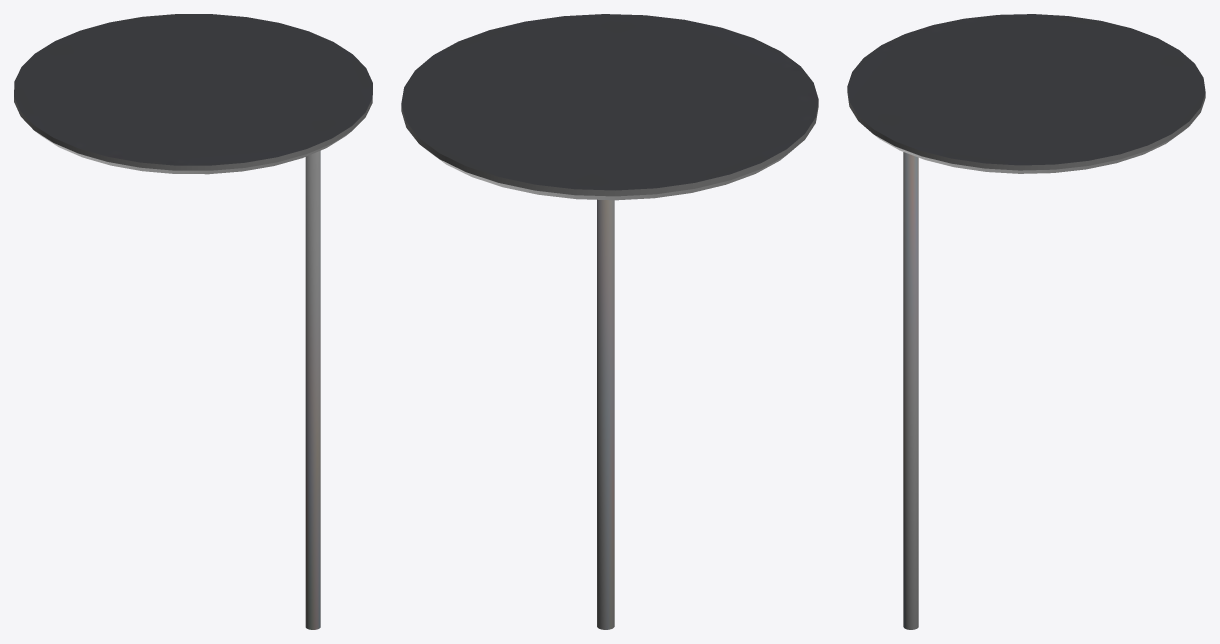
File: TalbeNew.fbx
3 renders of one model, left to right at view 1: azimuth 30°, elevation 25°; view 2: azimuth 150°, elevation 25°; view 3: azimuth 270°, elevation 25°, orthographic. The views are drawn at different scales.
Parts seen in each view (by area): view 1: emis.001; view 2: emis.001; view 3: emis.001.
Part boxes in pixels (x1,y1,x2,y2): emis.001: [14, 14, 372, 629]; emis.001: [401, 14, 818, 629]; emis.001: [847, 14, 1205, 629].
Size of the model in its own units: 245 by 382 by 245.
